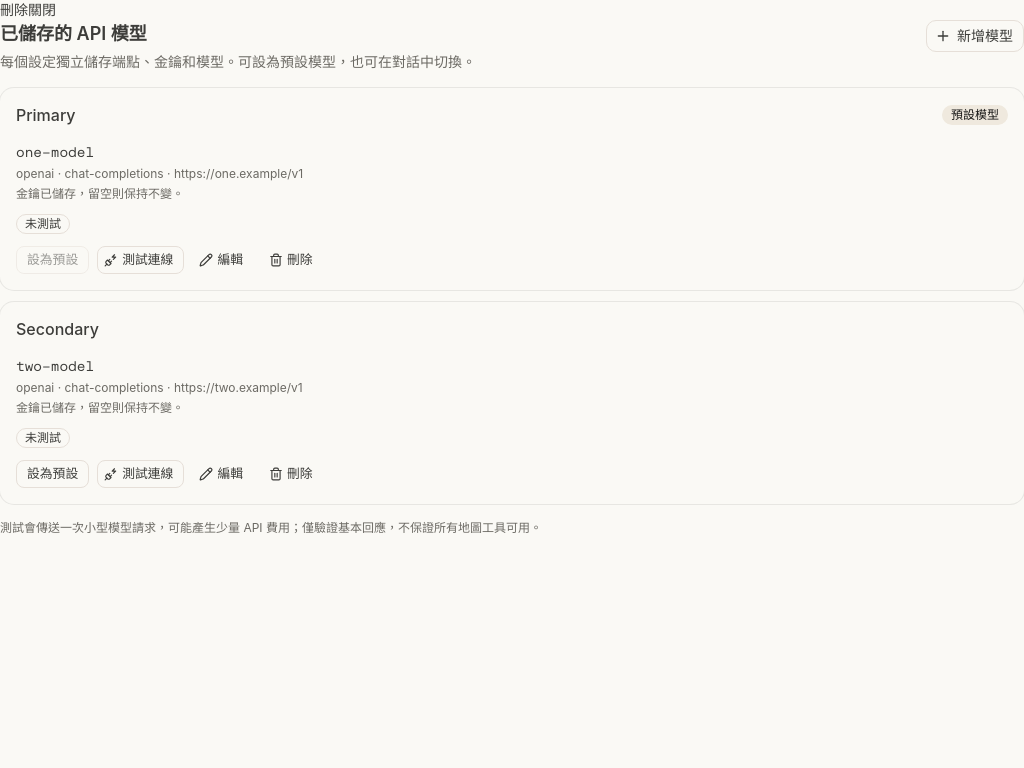
Test: API profile settings › labels the delete-dialog close action in zh-TW
Step 1. Click the button "刪除" below "https://two.example/v1" → coordinates (293, 474), box x1=262 y1=460 x2=324 y2=488
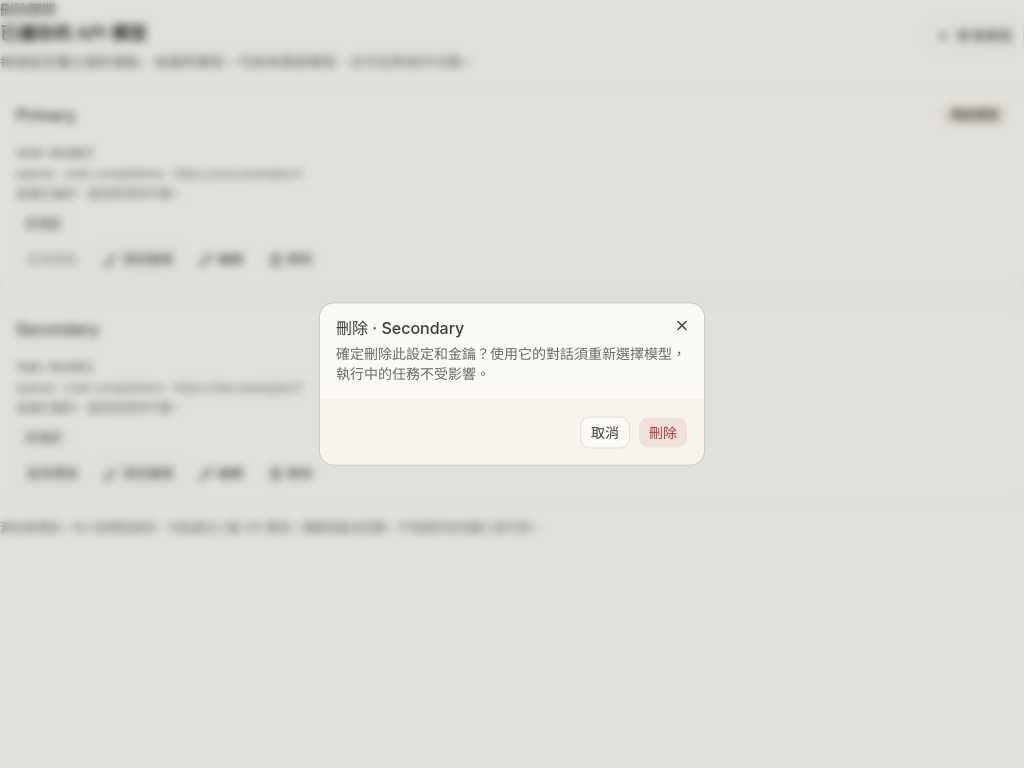
Step 2. Click the button named "關閉" → coordinates (682, 326), box x1=668 y1=312 x2=696 y2=340
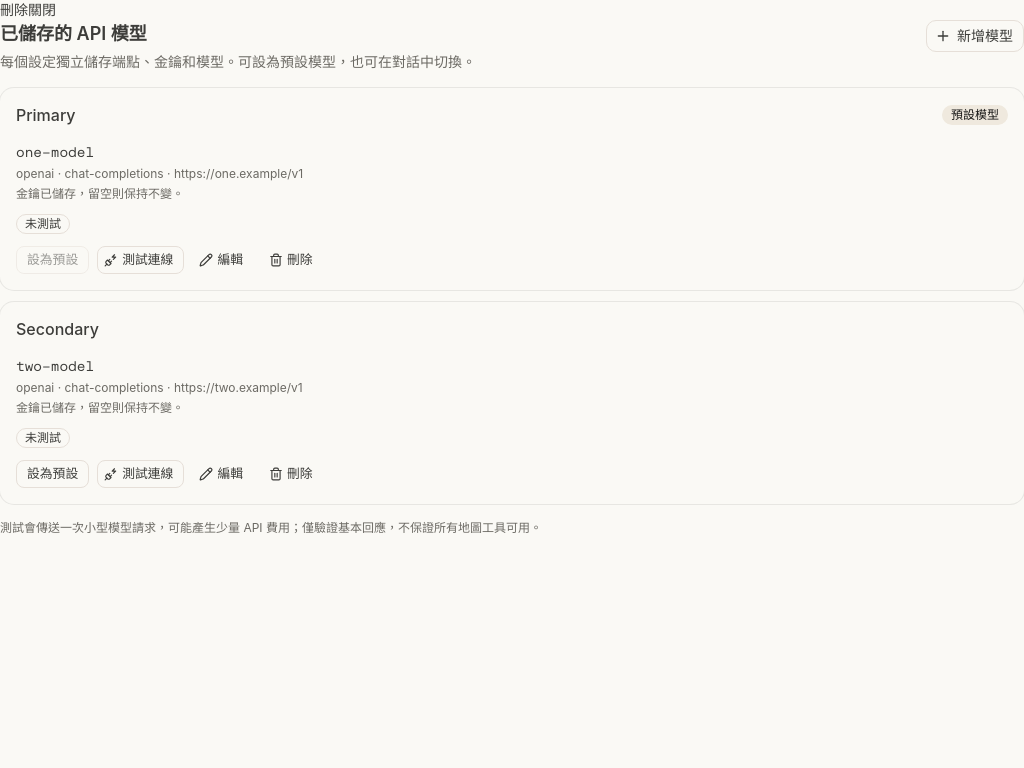
Check: the dialog is gone
